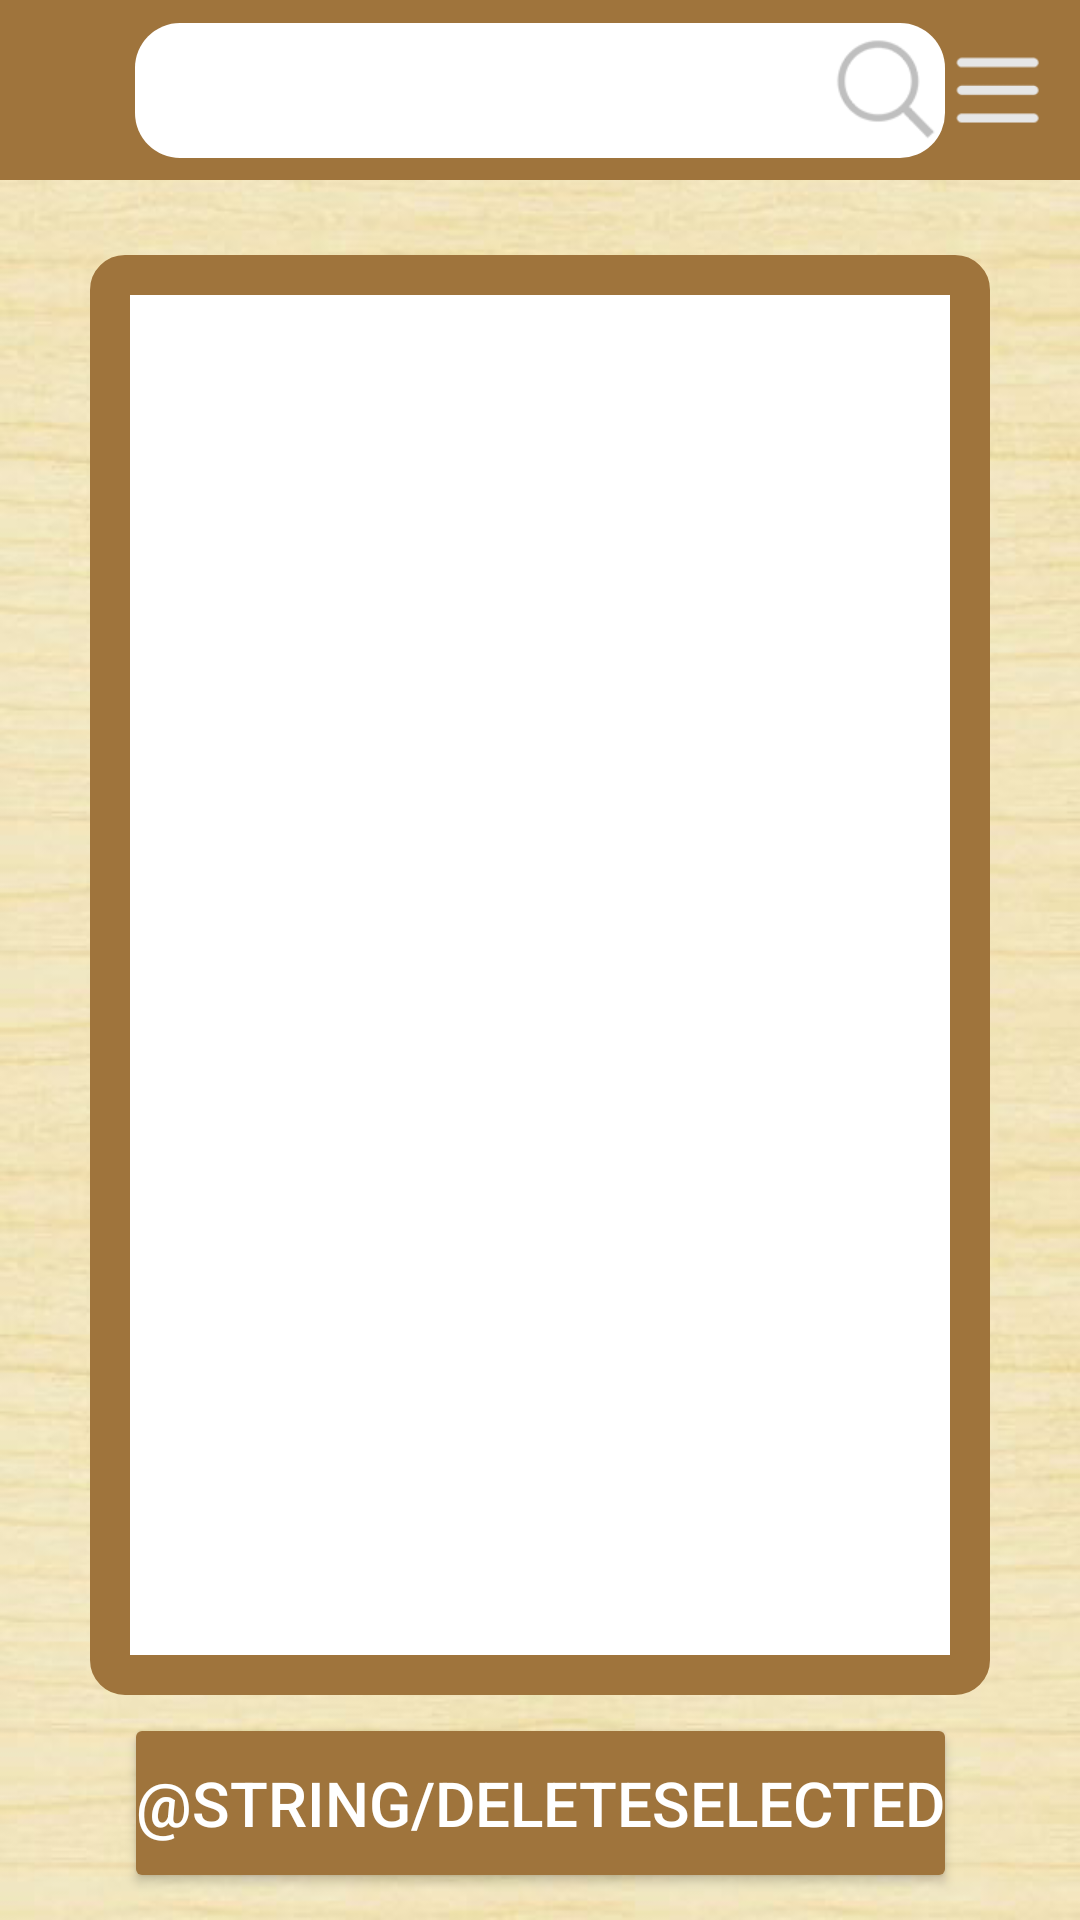

Icon click points for this 1080 x 1920 phone screenshot, format [x,y]:
more: [997,90]
